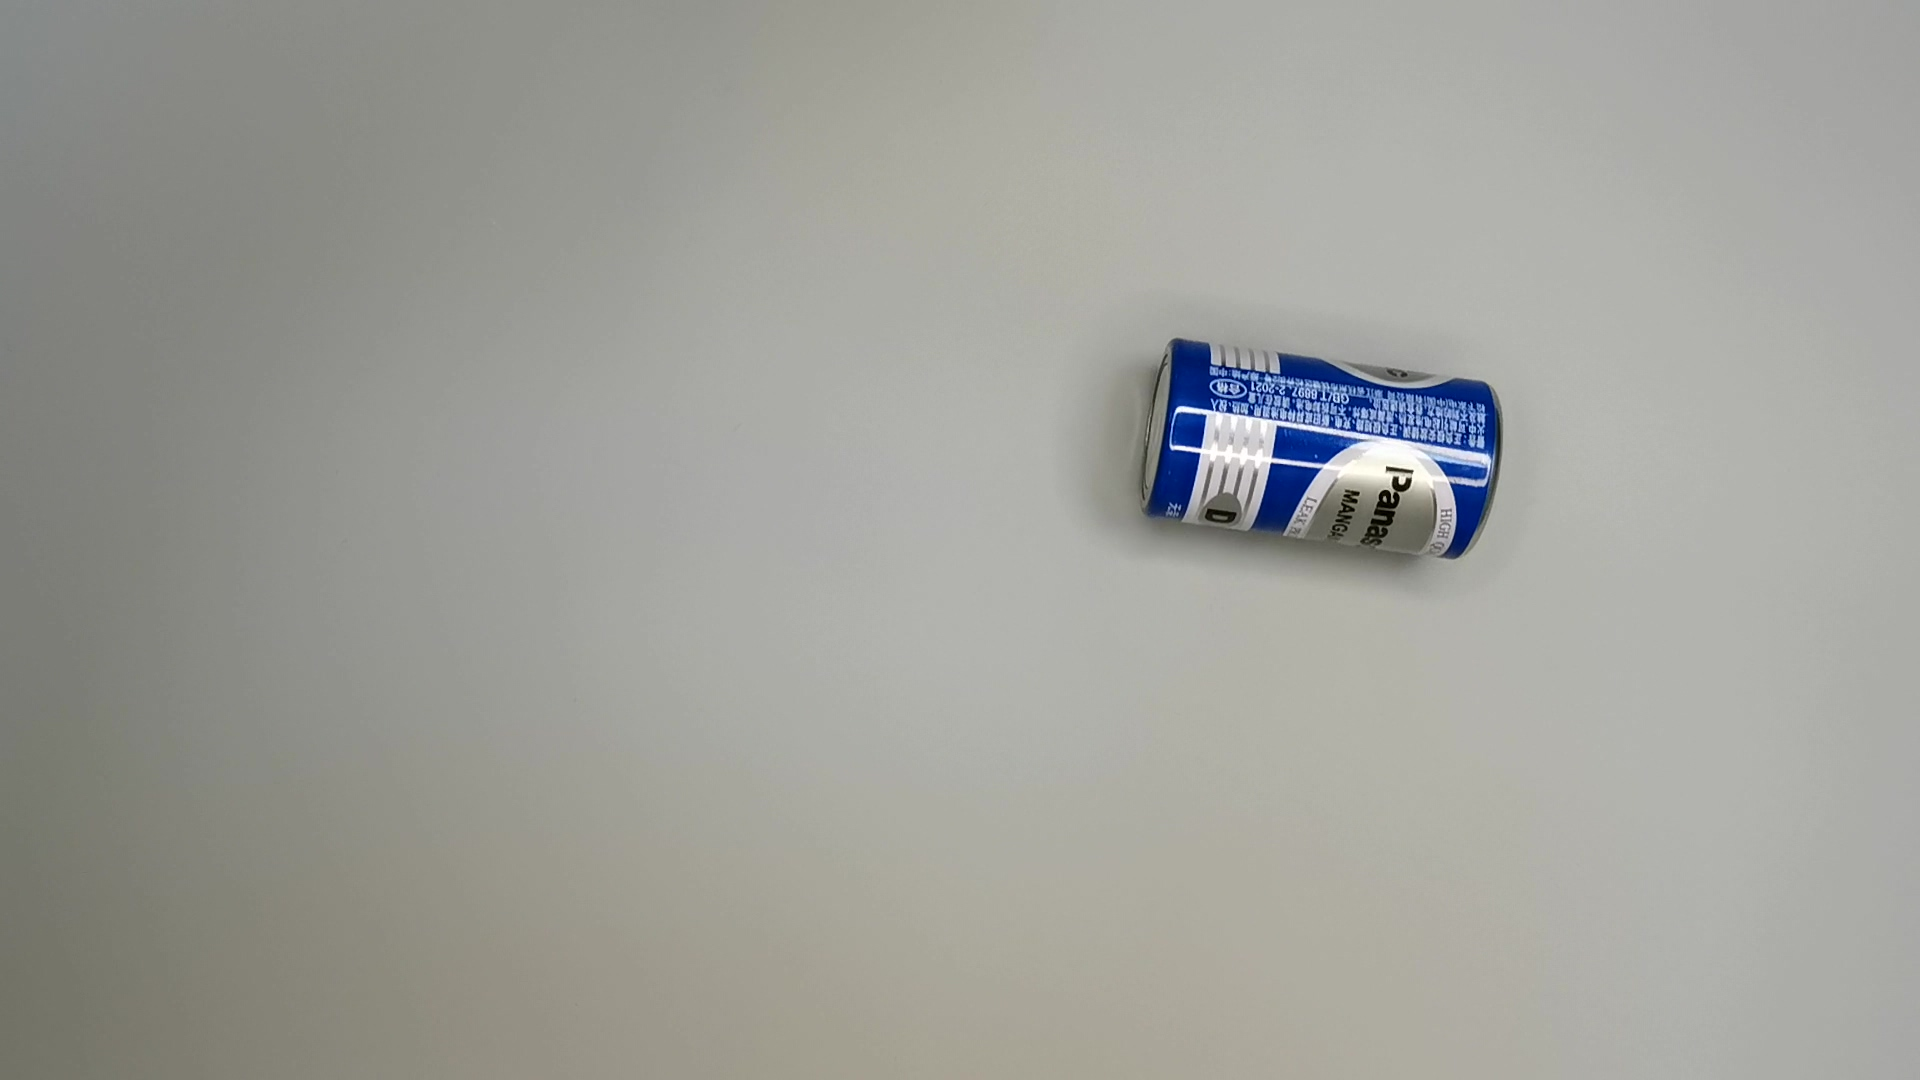battery: (1130, 334, 1510, 571)
